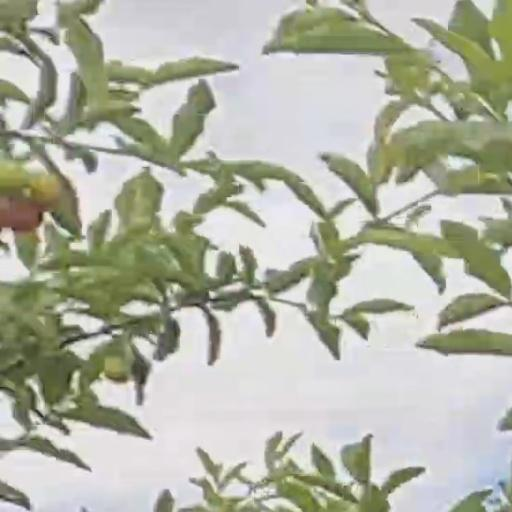acerola_verde: (2, 167, 31, 191)
acerola_vermelha: (1, 197, 41, 229), (35, 179, 60, 207)
